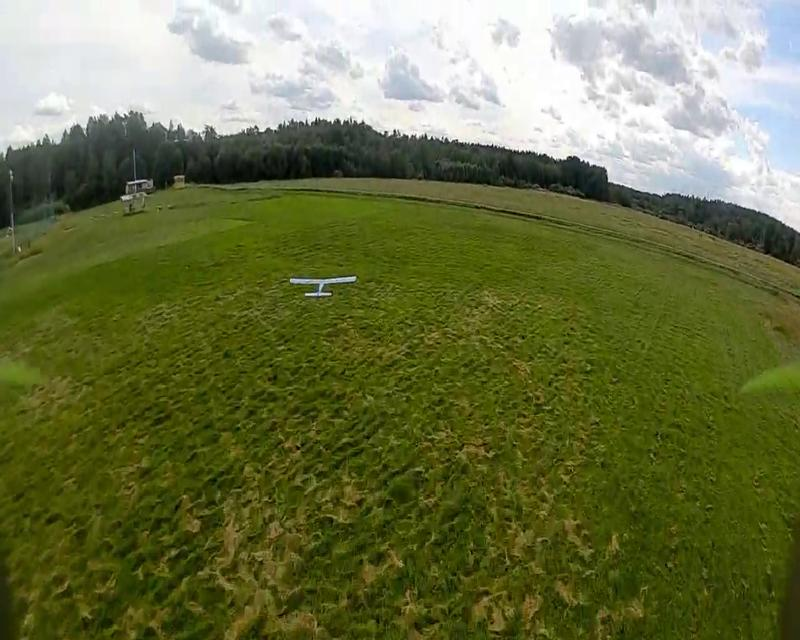UAV: (288, 277, 356, 297)
